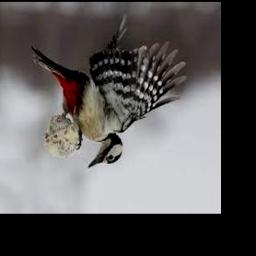Woodpecker: (30, 16, 187, 168)
